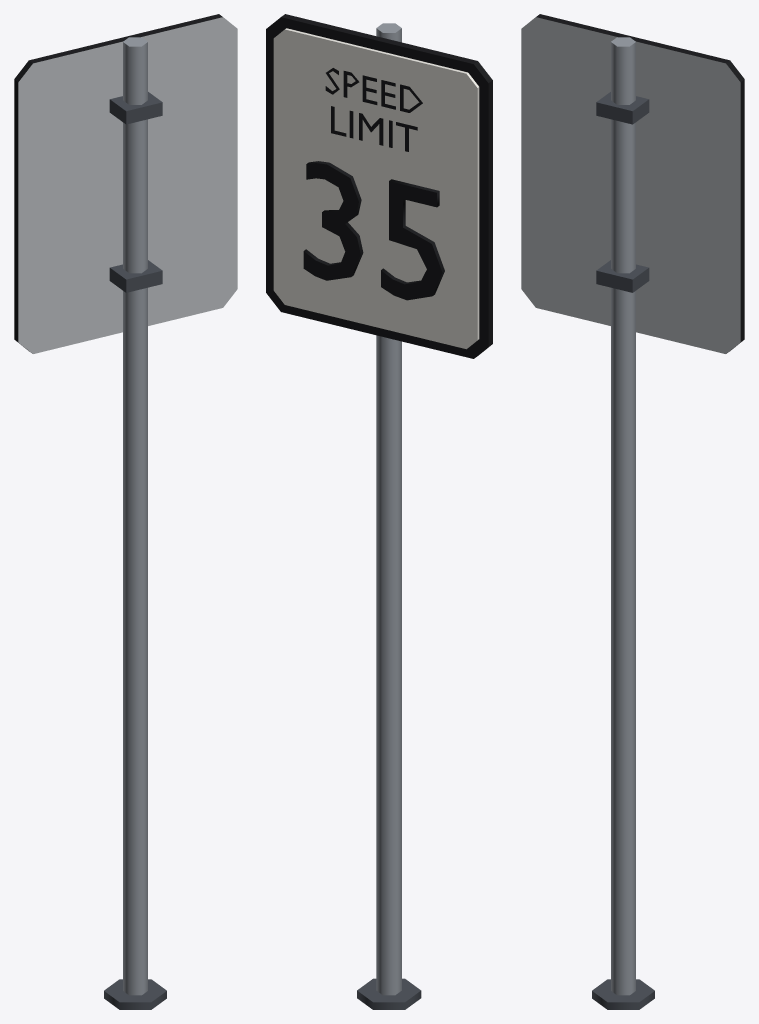
File: sign_speed.glb
The picture shows the model from 3 angles, left to right: view 1: azimuth 30°, elevation 25°; view 2: azimuth 150°, elevation 25°; view 3: azimuth 330°, elevation 25°; orthographic projection.
Parts seen in each view (by area): view 1: sign_speed__mesh; view 2: sign_speed__mesh; view 3: sign_speed__mesh.
Part boxes in pixels (left/top/right/bottom): sign_speed__mesh: left=14, top=14, right=237, bottom=1009; sign_speed__mesh: left=266, top=14, right=492, bottom=1009; sign_speed__mesh: left=521, top=14, right=744, bottom=1009.
Bounding box in the file's own units: 0.6 × 2.5 × 0.15.
1 material, 1 textured.
